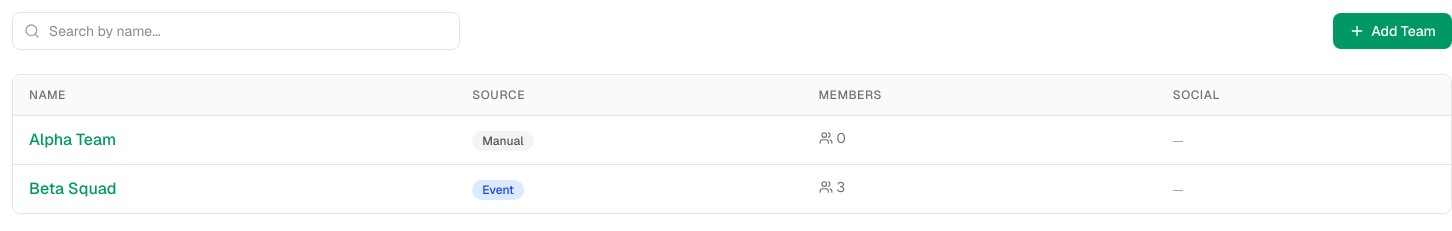
Test: TeamTable › shows no results when search matches nothing
Type "zzznonexistent" into the field with placeholder "Search by name..." at (236, 31), box 12,12 -> 460,50
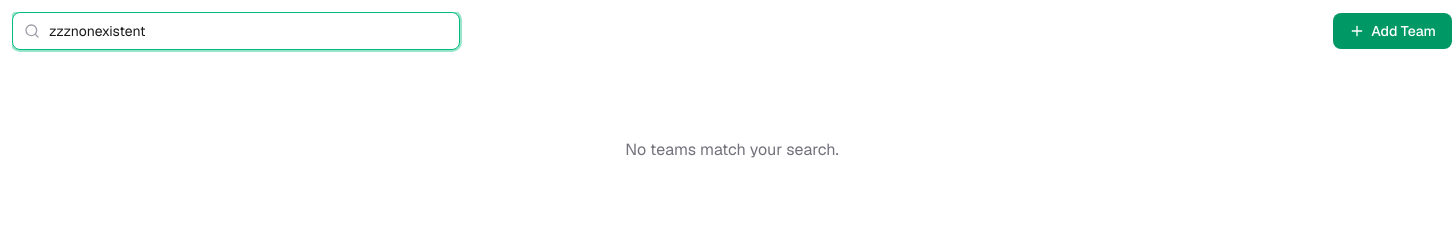
expect the text "No teams match your search." is shown: met, box 625,139 -> 839,160
